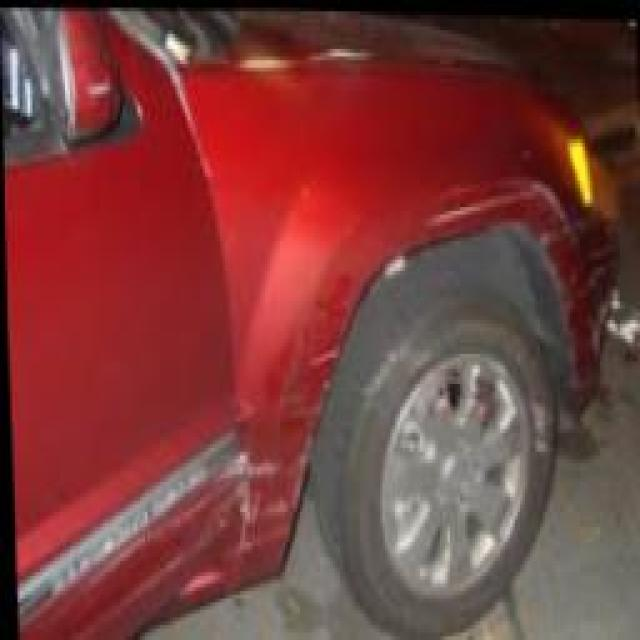Fender: (230, 271, 359, 598)
